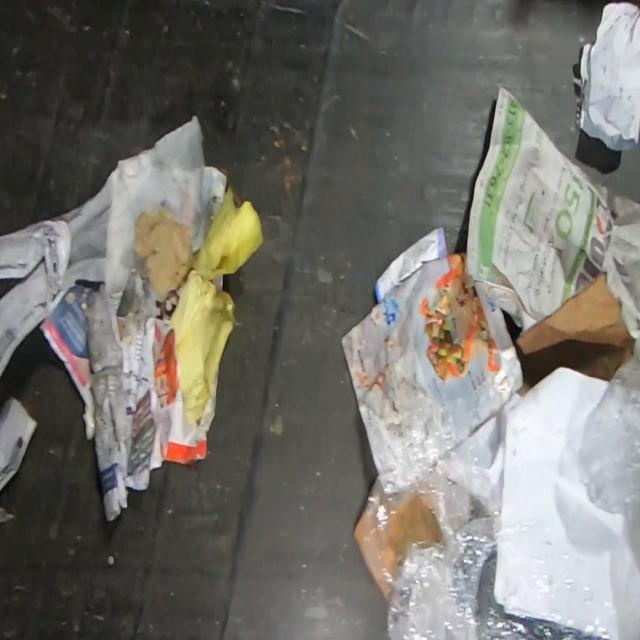cardboard: (514, 275, 634, 399), (353, 512, 366, 554)
soft_plastic: (361, 378, 608, 638), (579, 334, 639, 533)
